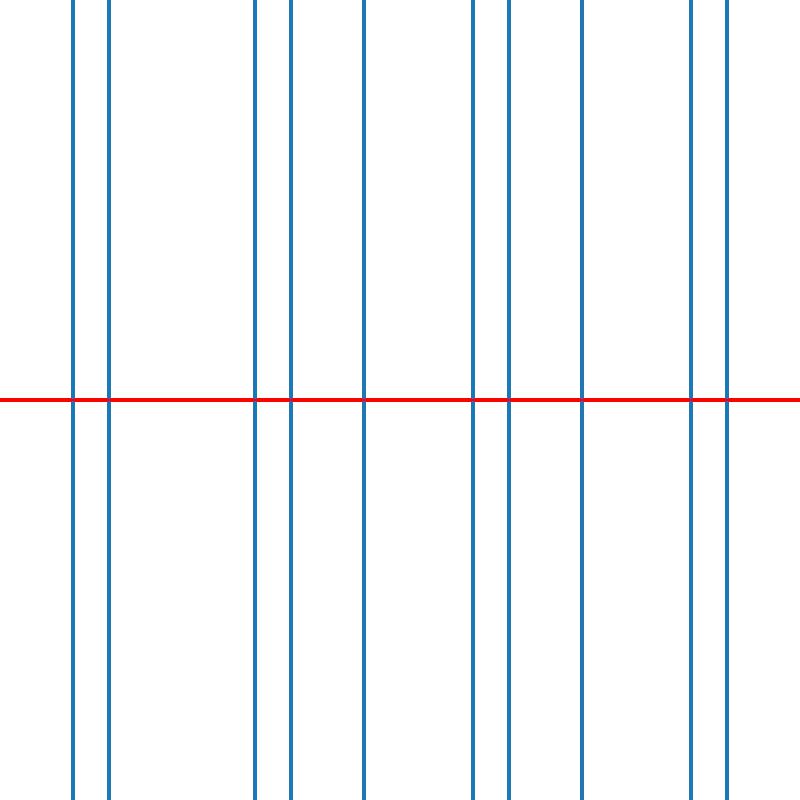root: (250, 396, 258, 404), (505, 396, 512, 404), (578, 396, 585, 404), (69, 396, 76, 404), (723, 396, 730, 404), (687, 396, 694, 404), (469, 396, 476, 404), (360, 396, 367, 404), (287, 396, 294, 404), (105, 396, 112, 404)
